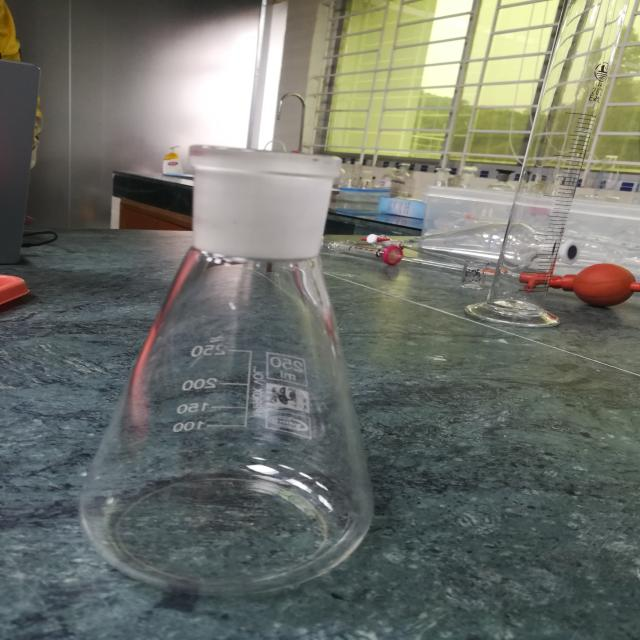Conical_Flask: (33, 121, 433, 617)
